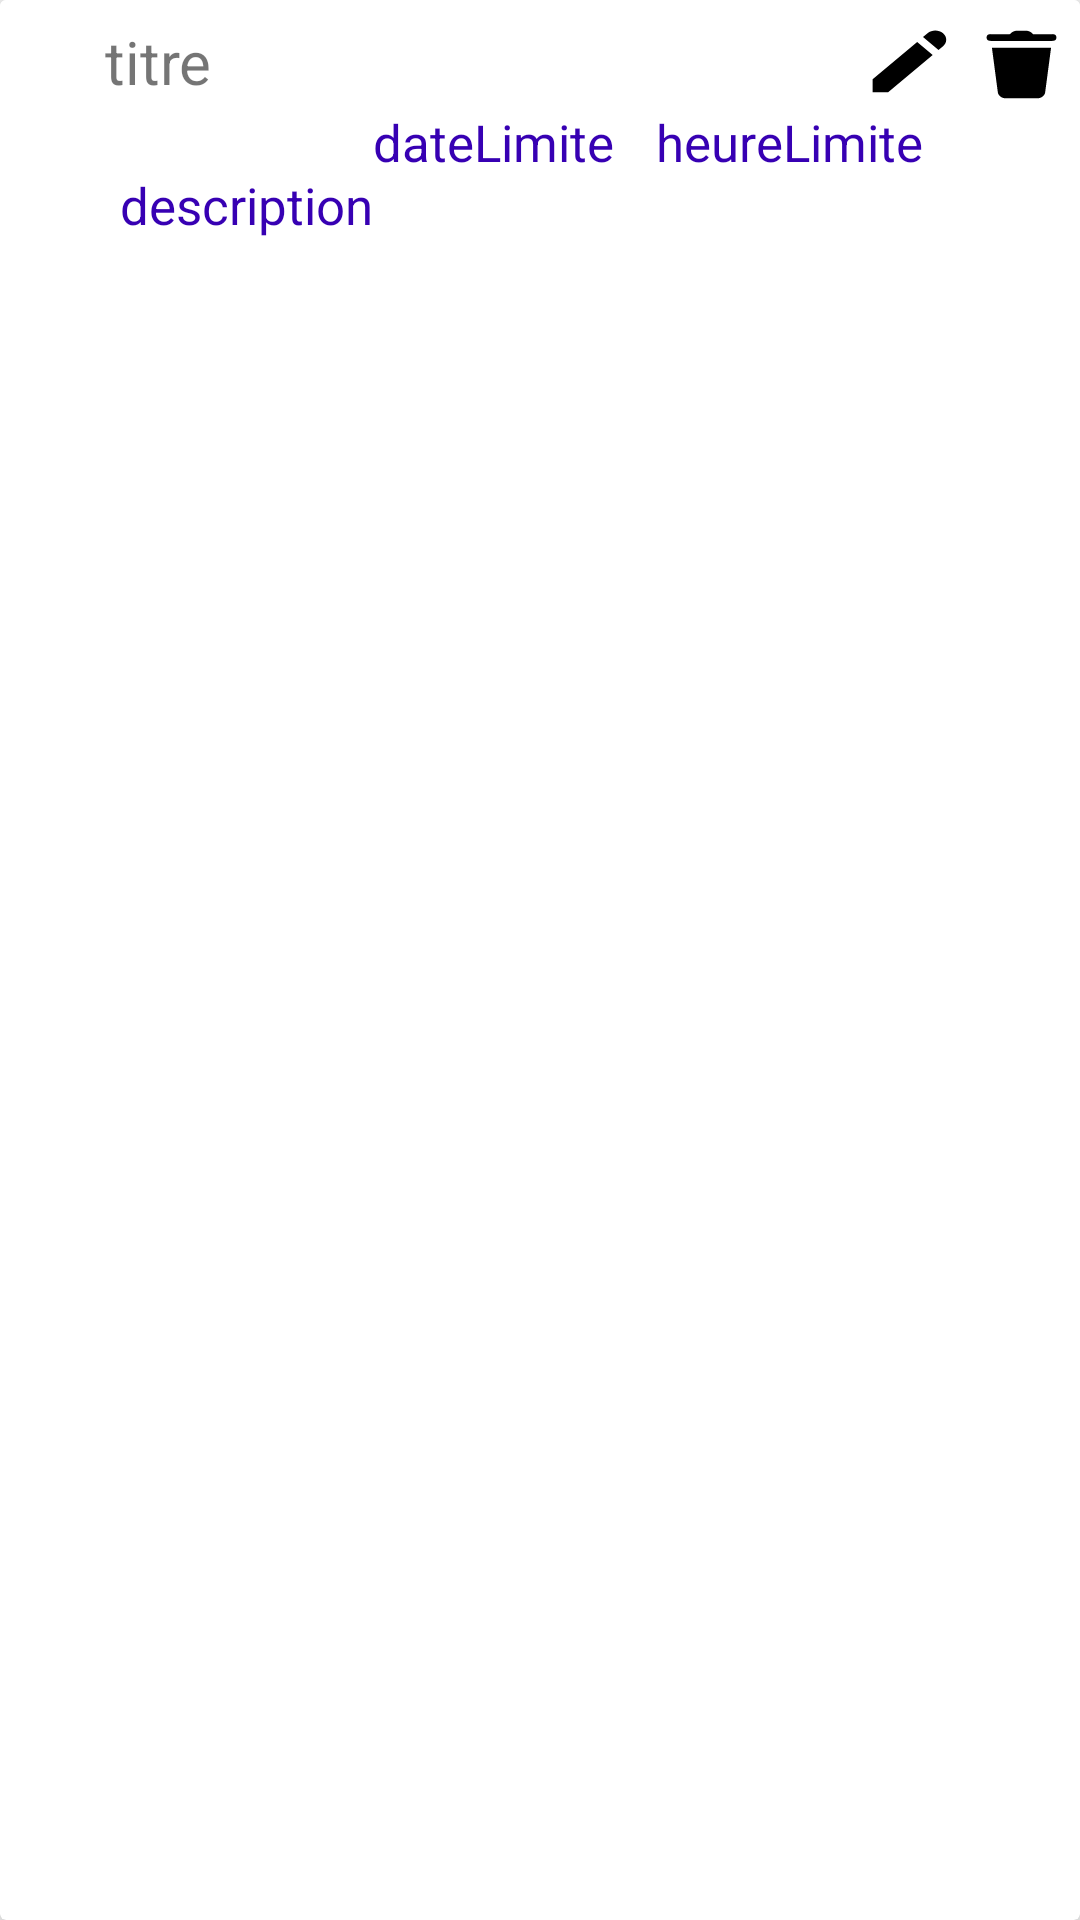

Icon bounding boxes for this 1080 × 1920 phone screenshot, format (x1, y1, x2, y2):
modifier: (872, 30, 947, 93)
supprimer: (986, 30, 1057, 99)
